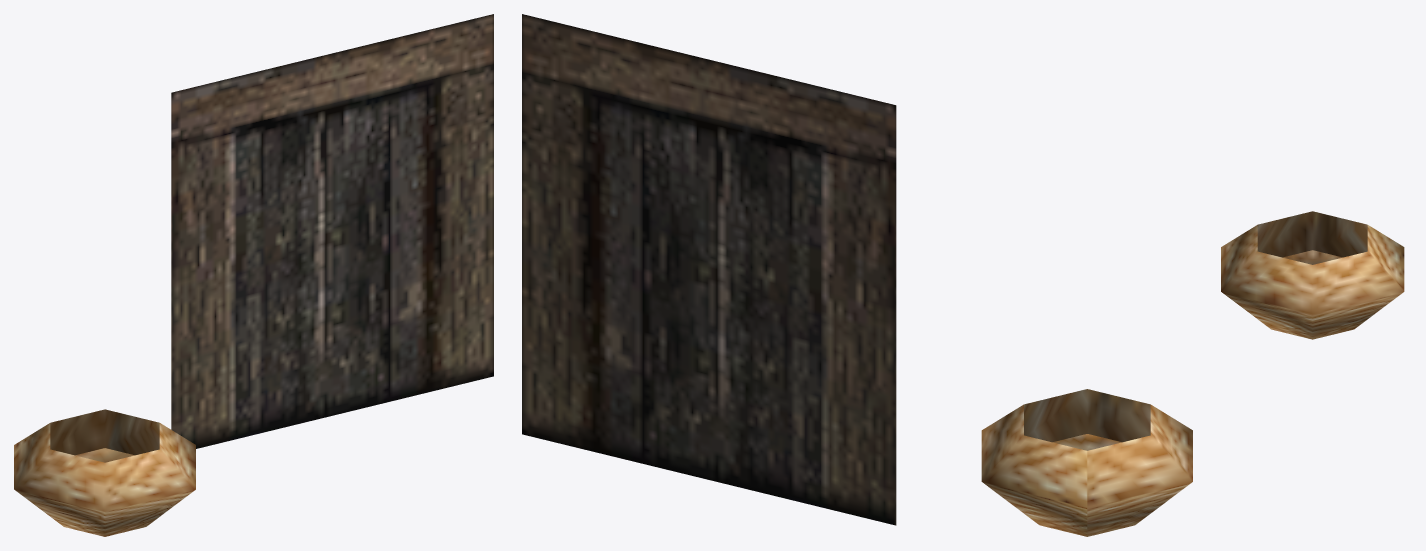
The model's file is celt_house_b_door.dae.
3 renders of one model, left to right at view 1: azimuth 30°, elevation 25°; view 2: azimuth 150°, elevation 25°; view 3: azimuth 270°, elevation 25°, orthographic. The views are drawn at different scales.
Visible parts, largest first — view 1: house_1_celt_prop; view 2: house_1_celt_prop; view 3: house_1_celt_prop.
Boxes of the visible parts, <box> form: house_1_celt_prop: <box>14,14,493,536</box>; house_1_celt_prop: <box>522,14,1192,536</box>; house_1_celt_prop: <box>1221,211,1404,339</box>.
Size of the model in its own units: 4.52 by 1.4 by 2.96.
